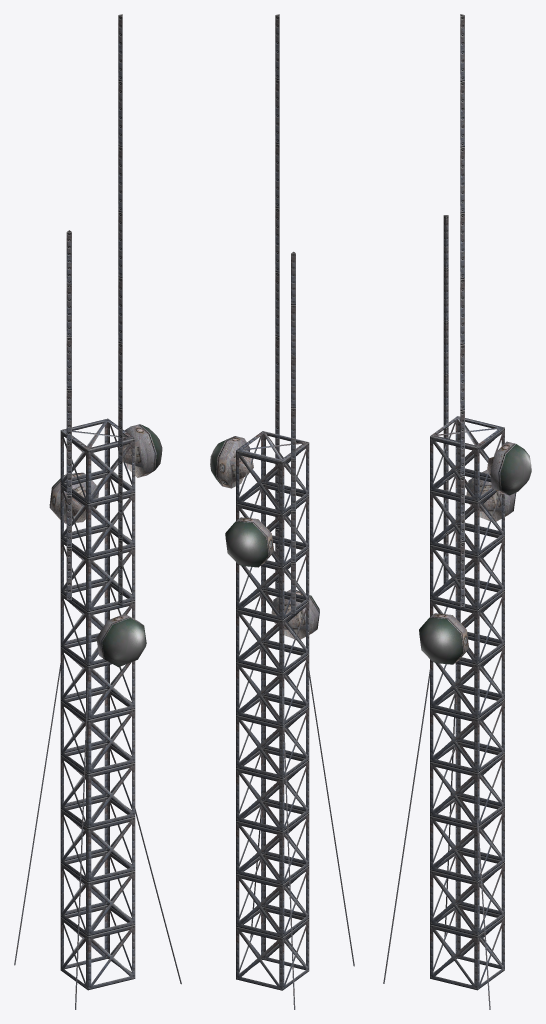
File: mtower2.fbx
The picture shows the model from 3 angles, left to right: view 1: azimuth 30°, elevation 25°; view 2: azimuth 150°, elevation 25°; view 3: azimuth 330°, elevation 25°; orthographic projection. The views are drawn at different scales.
Parts seen in each view (by area): view 1: mesh_0, mesh_4, mesh_2, mesh_8, mesh_3, mesh_1, mesh_7, mesh_6; view 2: mesh_0, mesh_4, mesh_1, mesh_2, mesh_3, mesh_8, mesh_6, mesh_7; view 3: mesh_0, mesh_4, mesh_8, mesh_2, mesh_3, mesh_1, mesh_7, mesh_5.
Boxes of the visible parts, bbox=[...] form: mesh_0: bbox=[60, 418, 135, 990]; mesh_4: bbox=[118, 14, 122, 605]; mesh_2: bbox=[66, 230, 71, 600]; mesh_8: bbox=[96, 614, 146, 667]; mesh_3: bbox=[117, 424, 162, 477]; mesh_1: bbox=[49, 472, 98, 523]; mesh_7: bbox=[75, 679, 88, 1009]; mesh_6: bbox=[14, 661, 60, 965]; mesh_0: bbox=[236, 431, 309, 990]; mesh_4: bbox=[275, 14, 279, 592]; mesh_1: bbox=[225, 517, 274, 567]; mesh_2: bbox=[291, 251, 295, 614]; mesh_3: bbox=[210, 436, 253, 488]; mesh_8: bbox=[271, 589, 319, 639]; mesh_6: bbox=[281, 686, 295, 1009]; mesh_7: bbox=[309, 668, 354, 966]; mesh_0: bbox=[430, 416, 504, 990]; mesh_4: bbox=[460, 14, 464, 608]; mesh_8: bbox=[419, 613, 469, 664]; mesh_2: bbox=[443, 215, 448, 586]; mesh_3: bbox=[487, 441, 531, 495]; mesh_1: bbox=[466, 470, 516, 521]; mesh_7: bbox=[383, 668, 430, 983]; mesh_5: bbox=[476, 817, 490, 1009].
Size of the model in its own units: 432 by 3501 by 460.
Materials: 2 (2 with a texture image).
